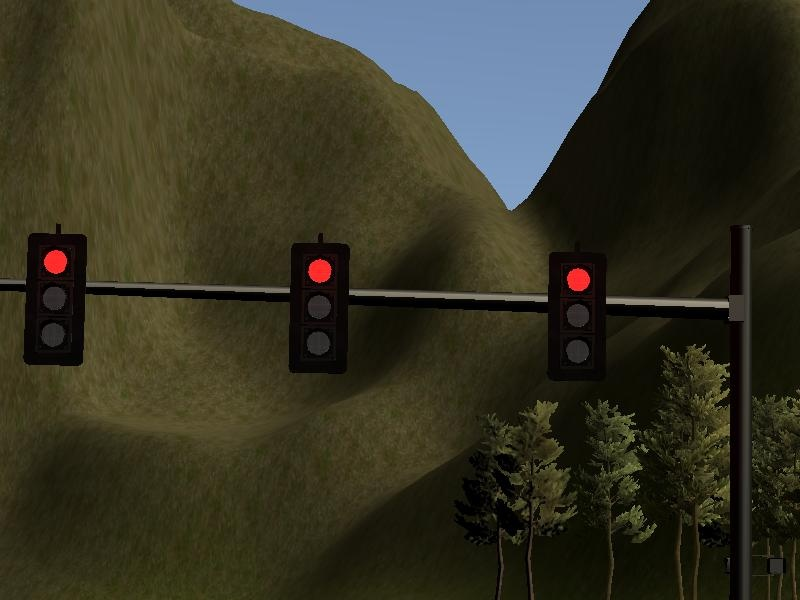red: (26, 232, 85, 365), (290, 241, 348, 371), (552, 251, 604, 379)
